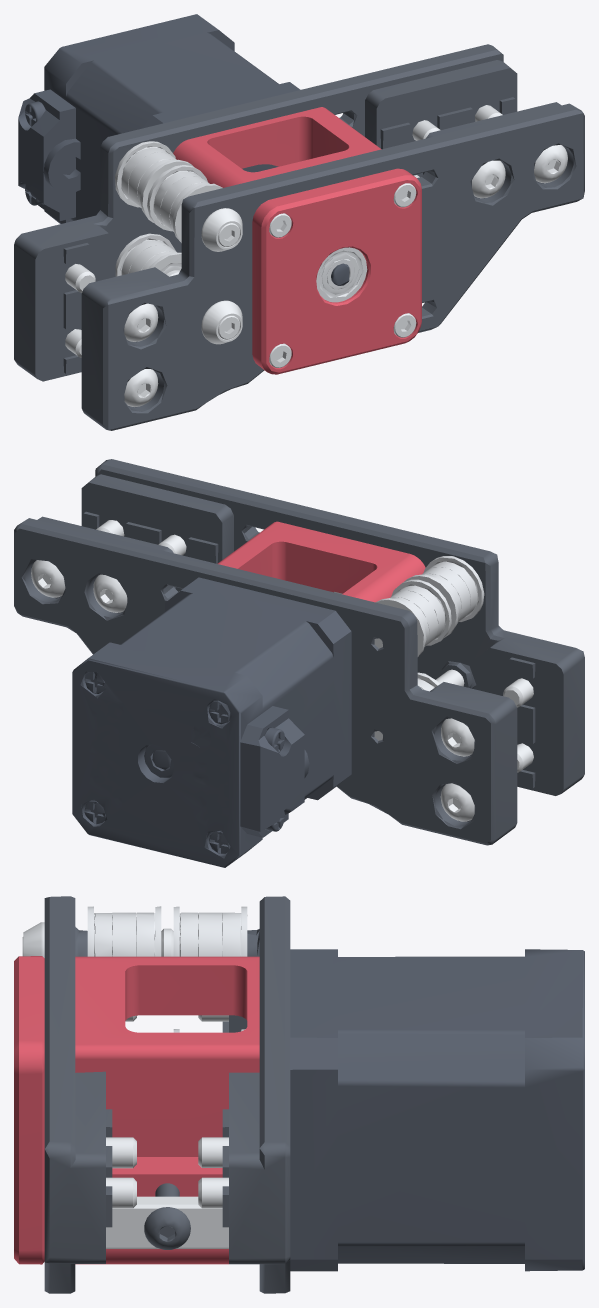
3 views of the same model, one above another, from view 1: azimuth 30°, elevation 25°; view 2: azimuth 150°, elevation 25°; view 3: azimuth 270°, elevation 25° (orthographic). The views are drawn at different scales.
Visible parts, largest first — view 1: B电机座_1, B电机座, nema17_motor_19, AB电机盖, AB电机滑块, 轴承-F695ZZ_23, 轴承-F695ZZ, 轴承-F695ZZ_7, M3铝合金垫圈, M3铝合金垫圈_15, M5x12-圆头_35, M5x12-圆头_33 (+9 smaller); view 2: nema17_motor_19, B电机座, B电机座_1, AB电机滑块, 轴承-F695ZZ_6, 轴承-F695ZZ_9, M5x12-圆头_37, M5x12-圆头_39, M5x12-圆头_36, M5x12-圆头_38, 轴承-F695ZZ, 轴承-F695ZZ_7 (+3 smaller); view 3: nema17_motor_19, AB电机滑块, B电机座, B电机座_1, AB电机盖, B电机座_2, M4x20-圆头, 轴承-F695ZZ_9, 轴承-F695ZZ_7, 轴承-F695ZZ_6, 轴承-F695ZZ, 轴承-695ZZ (+6 smaller).
Part boxes in pixels (x1=…): B电机座_1: x1=81, y1=102, x2=584, y2=430; B电机座: x1=14, y1=44, x2=517, y2=381; nema17_motor_19: x1=18, y1=14, x2=349, y2=285; AB电机盖: x1=252, y1=168, x2=421, y2=374; AB电机滑块: x1=173, y1=107, x2=381, y2=187; 轴承-F695ZZ_23: x1=316, y1=247, x2=367, y2=302; 轴承-F695ZZ: x1=147, y1=165, x2=207, y2=231; 轴承-F695ZZ_7: x1=114, y1=141, x2=175, y2=207; M3铝合金垫圈: x1=201, y1=300, x2=242, y2=344; M3铝合金垫圈_15: x1=201, y1=208, x2=242, y2=251; M5x12-圆头_35: x1=534, y1=145, x2=567, y2=183; M5x12-圆头_33: x1=124, y1=303, x2=158, y2=341; nema17_motor_19: x1=72, y1=577, x2=351, y2=867; B电机座: x1=14, y1=516, x2=517, y2=845; B电机座_1: x1=81, y1=459, x2=584, y2=795; AB电机滑块: x1=217, y1=521, x2=425, y2=602; 轴承-F695ZZ_6: x1=423, y1=556, x2=484, y2=621; 轴承-F695ZZ_9: x1=391, y1=579, x2=451, y2=645; M5x12-圆头_37: x1=93, y1=574, x2=127, y2=612; M5x12-圆头_39: x1=440, y1=783, x2=474, y2=821; M5x12-圆头_36: x1=441, y1=718, x2=474, y2=756; M5x12-圆头_38: x1=31, y1=560, x2=65, y2=597; 轴承-F695ZZ: x1=404, y1=573, x2=461, y2=637; 轴承-F695ZZ_7: x1=375, y1=597, x2=429, y2=656; nema17_motor_19: x1=290, y1=949, x2=584, y2=1271; AB电机滑块: x1=75, y1=956, x2=259, y2=1264; B电机座: x1=222, y1=896, x2=290, y2=1293; B电机座_1: x1=44, y1=896, x2=112, y2=1293; AB电机盖: x1=14, y1=956, x2=44, y2=1264; B电机座_2: x1=106, y1=1196, x2=228, y2=1248; M4x20-圆头: x1=144, y1=1183, x2=190, y2=1249; 轴承-F695ZZ_9: x1=173, y1=906, x2=198, y2=956; 轴承-F695ZZ_7: x1=222, y1=906, x2=247, y2=956; 轴承-F695ZZ_6: x1=87, y1=906, x2=112, y2=956; 轴承-F695ZZ: x1=137, y1=906, x2=161, y2=956; 轴承-695ZZ: x1=112, y1=912, x2=136, y2=956.
Bounding box in the file's own units: 0.12 × 0.0495 × 0.093.
